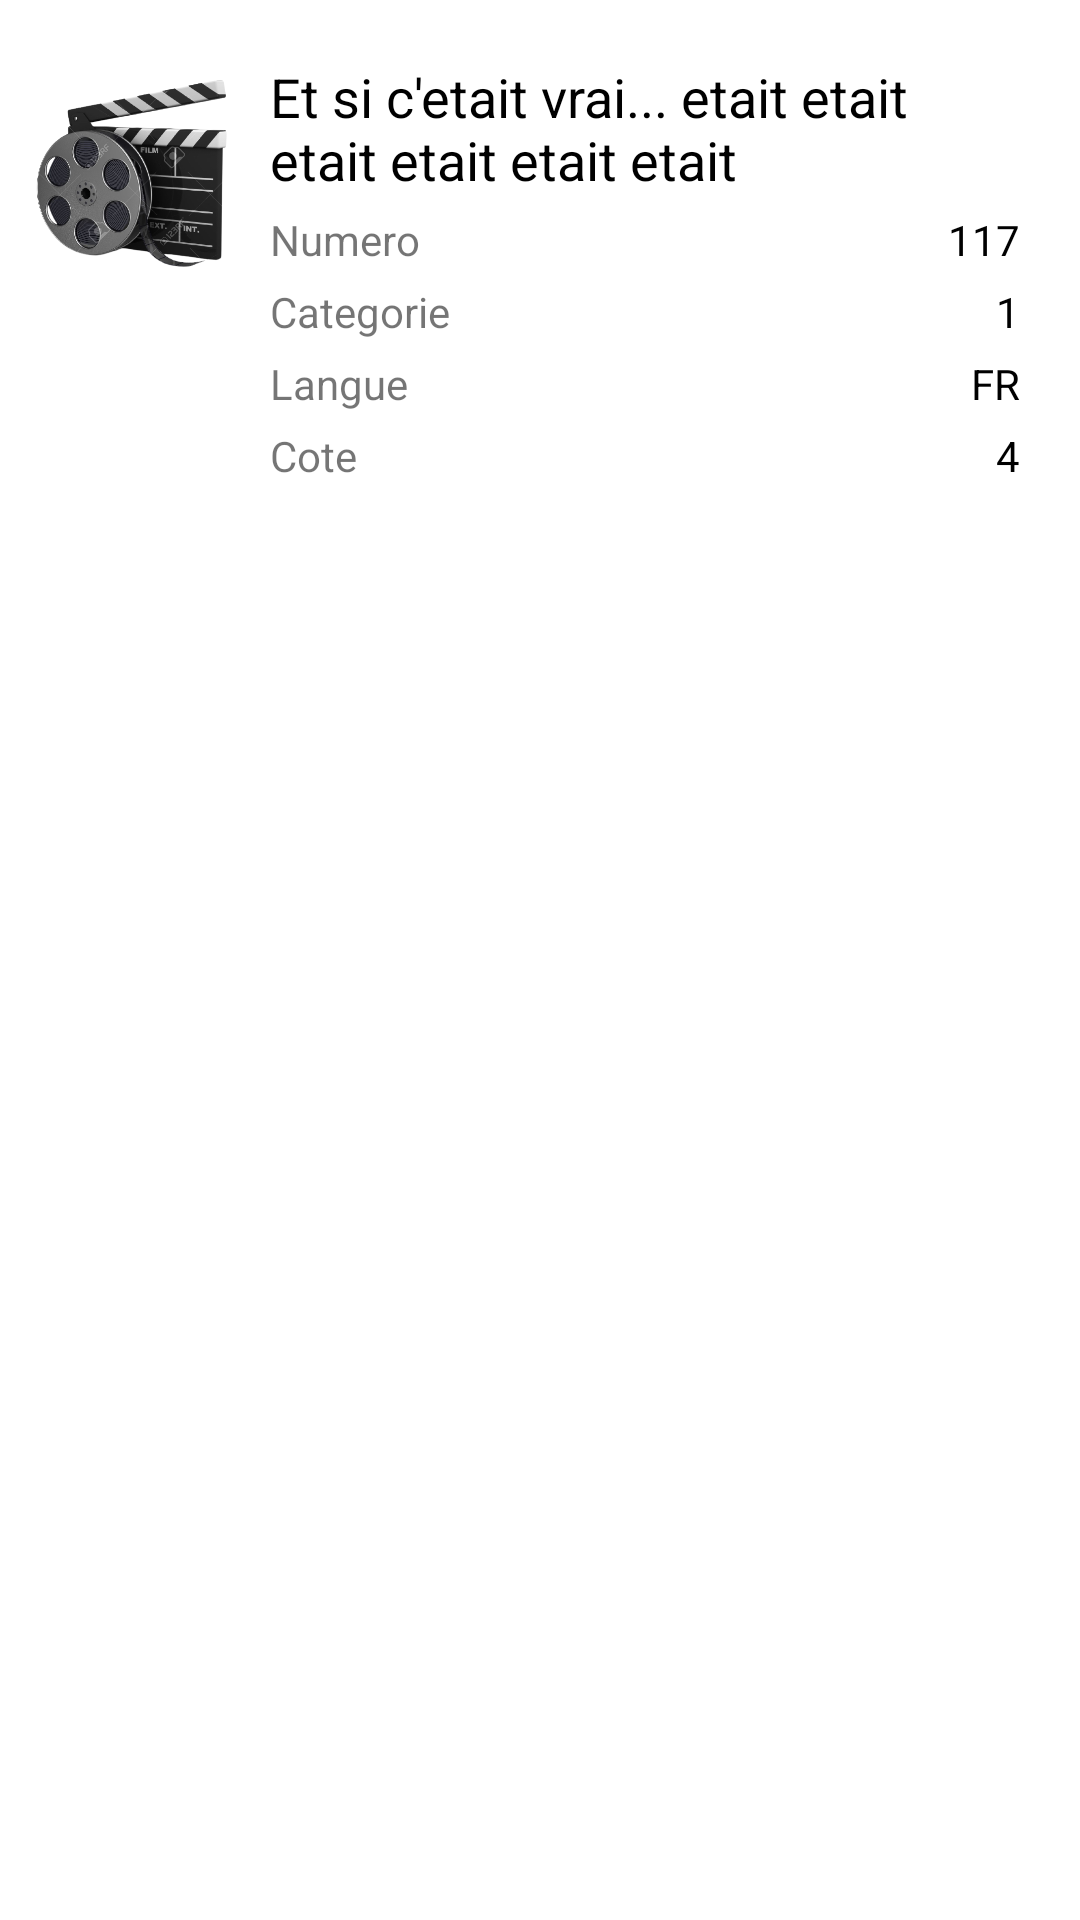

Icons on this 1080*1920 Android screen, each with its box as (x1, y1, x2, y2):
FILMS: (37, 80, 226, 267)
